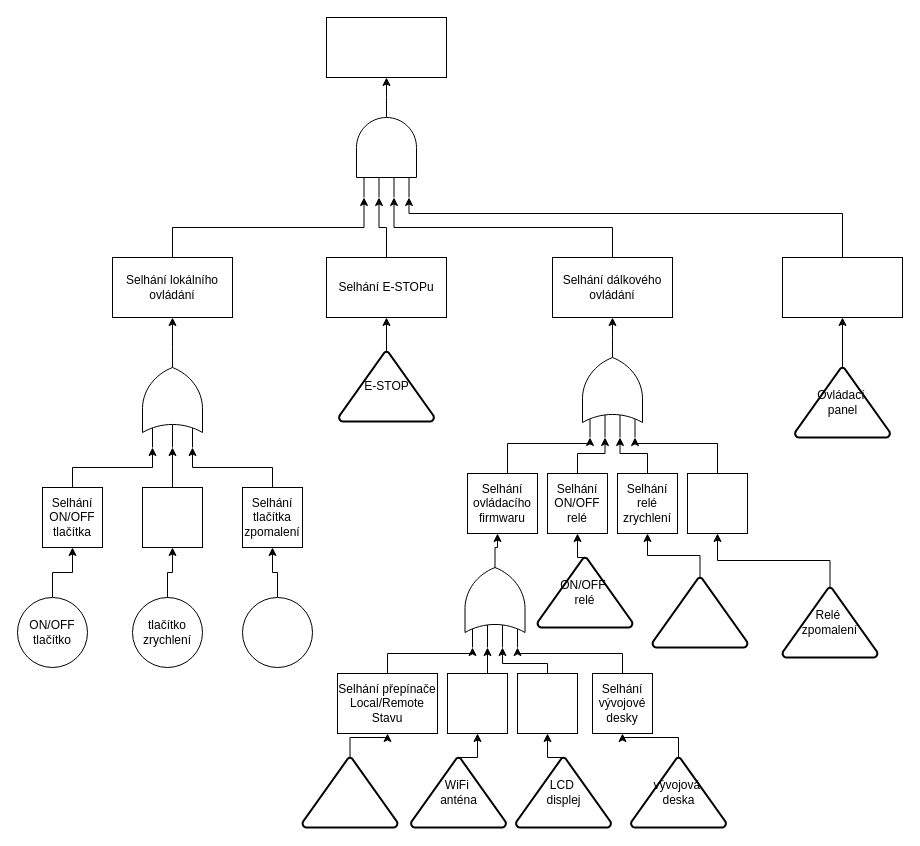
Some shapes in this 920 by 846 pixel diagram are drawn without their labels. Each missing label, with the centre of its shape:
"Local/Remote přepínač" belongs at point (349, 792).
"Neovladatelný systém" belongs at point (386, 47).
"Relé zrychlení" belongs at point (699, 612).
"Selhání LCD displeje" belongs at point (547, 703).
"Selhání ovládacího panelu" belongs at point (842, 287).
"Selhání relé zpomalení" belongs at point (717, 503).
"Selhání tlačítka zrychlení" belongs at point (172, 517).
"Selhání WiFi antény" belongs at point (477, 703).
"tlačítko zpomalení" belongs at point (277, 632).
